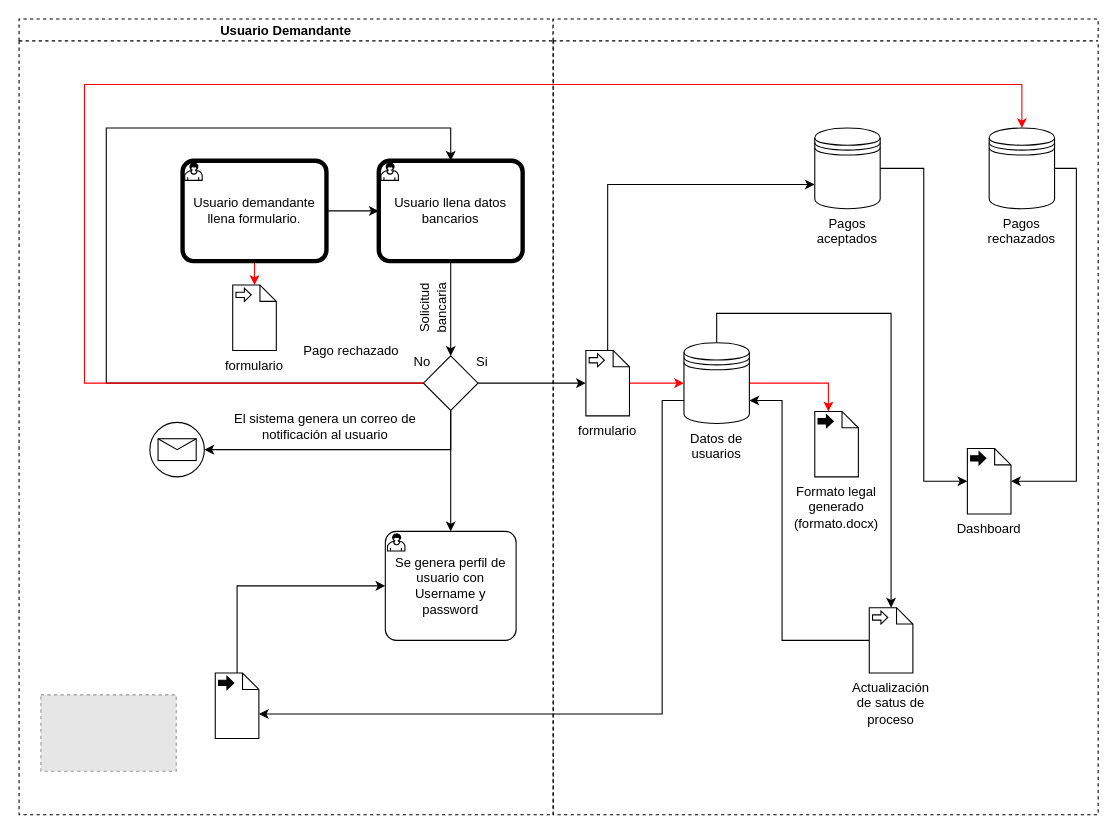
Image size: 1117x834. Some labels were removed from this diagram. Grey dashed boxes stand in for pictures. The shapes that lost their labels are listed below. From the top down, each one's centre as x and y in pixels, then its label:
point (825, 416): Usuario Administrador
point (236, 705): Vista estatus de proceso
